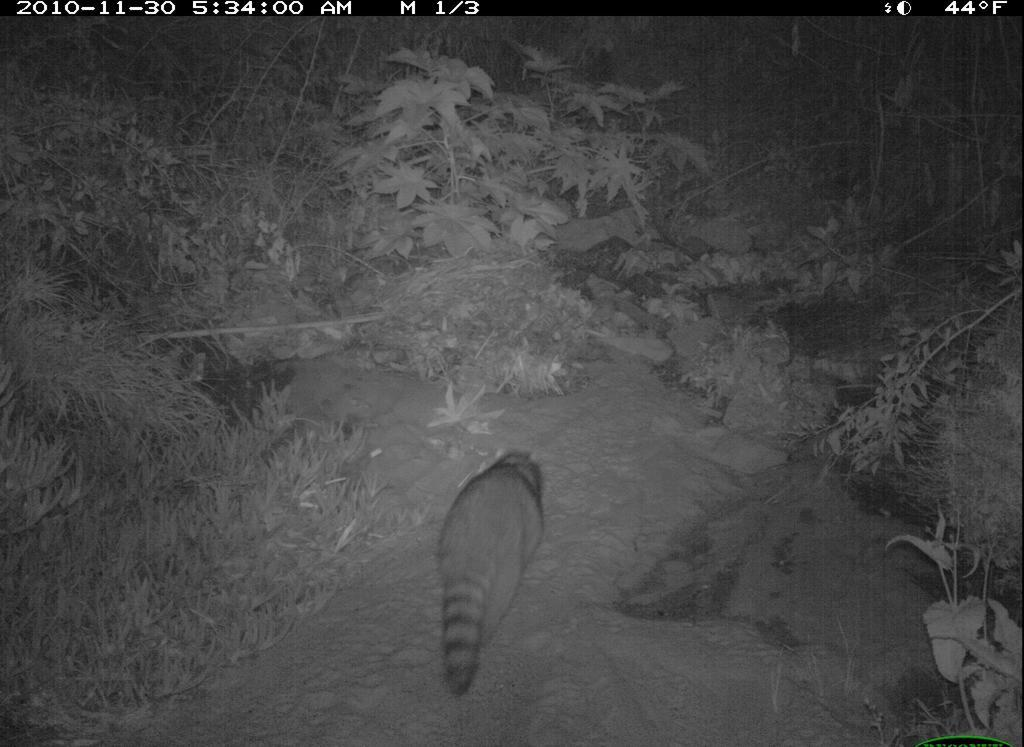raccoon: (428, 420, 553, 699)
